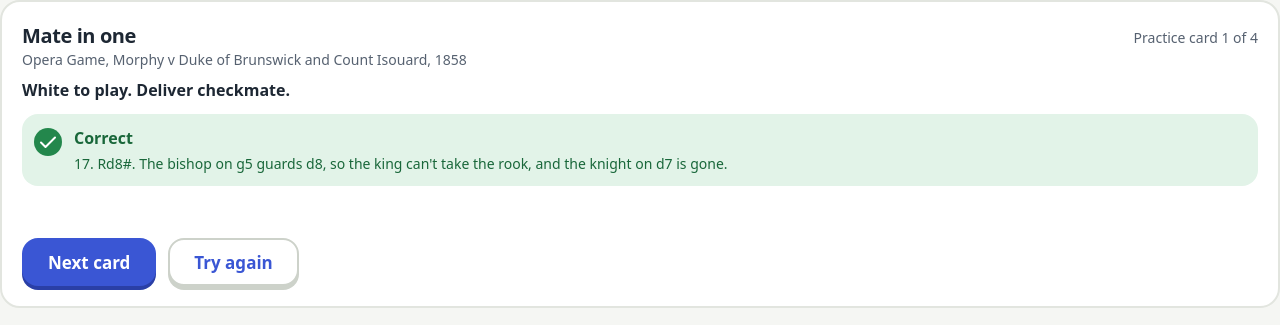
Test: Practice cards › plays the opponent's reply after a correct move, then finishes
Click the button "Next card".
click(89, 262)  # box [22, 238, 156, 286]
Wait 700 ms
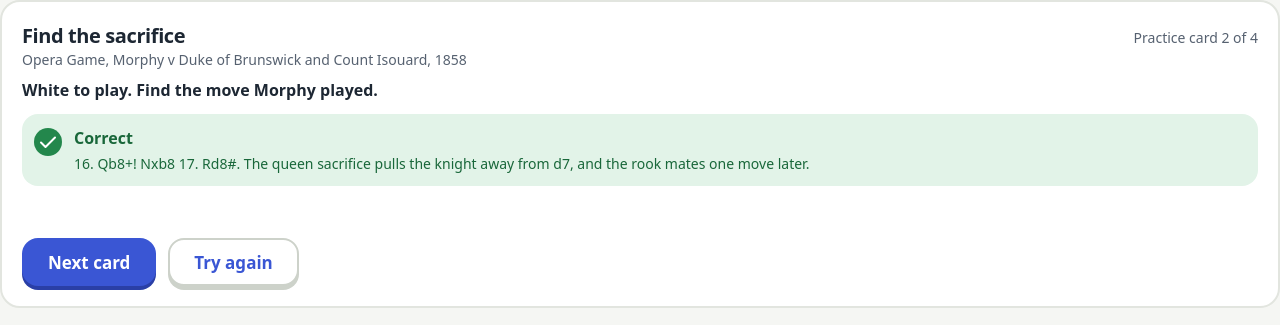
Expected: the message shows "Correct", [74, 127, 133, 149]
Now the text "Qb8+! Nxb8 17. Rd8#" is shown, box [74, 154, 809, 173]
